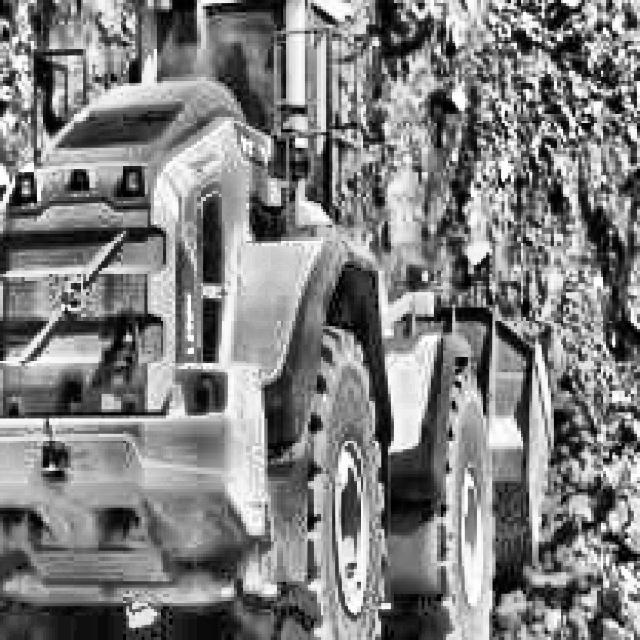buldozerpayloadergrader: (0, 0, 557, 640)
